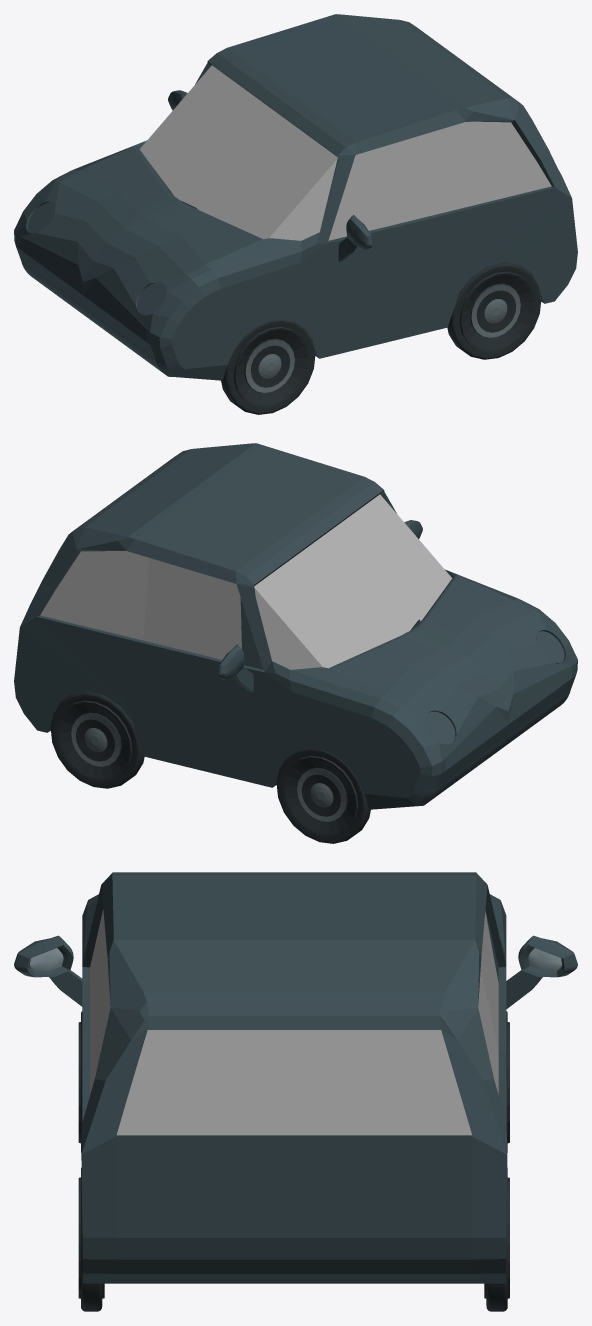
Rendered from carDoorOpeningAnimation.fbx.
The picture shows the model from 3 angles, top to bottom: view 1: azimuth 30°, elevation 25°; view 2: azimuth 150°, elevation 25°; view 3: azimuth 270°, elevation 25°; orthographic projection. The views are drawn at different scales.
Parts seen in each view (by area): view 1: car, wheel2, wheel1, side_window; view 2: car, car_door, wheel3, wheel4, side_window; view 3: car, side_window (×2), car_door, wheel2, wheel3, side_window_stand2, side_window_stand1, wheel1.
Boxes of the visible parts, x1,y1,x2,y2 form: car: (14,14,577,380); wheel2: (447,262,541,359); wheel1: (221,319,315,414); side_window: (346,214,372,249); car: (14,443,577,809); car_door: (142,558,241,779); wheel3: (50,691,144,788); wheel4: (276,748,370,843); side_window: (218,644,244,679); car: (81,872,507,1283); side_window (×2): (14,935,577,977); car_door: (480,911,506,1052); wheel2: (78,1167,104,1311); wheel3: (484,1168,509,1311); side_window_stand2: (506,970,542,1009); side_window_stand1: (49,970,82,1006); wheel1: (78,1011,82,1152).
Size of the model in its own units: 0.507 by 0.2862 by 0.4174.
